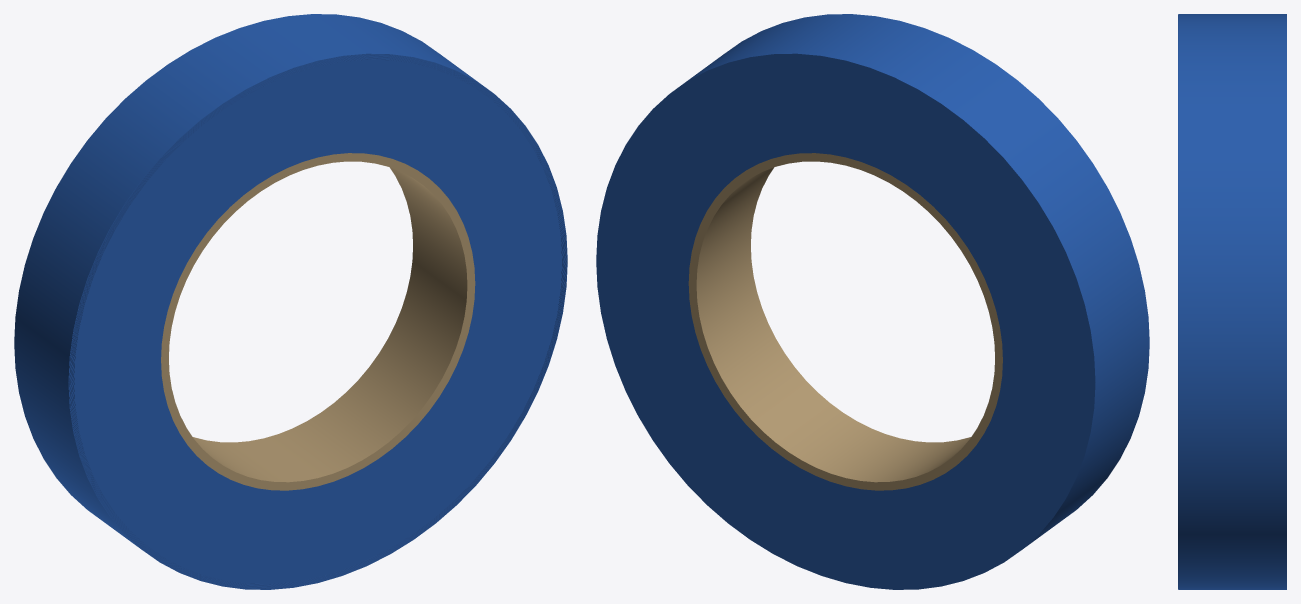
Rendered from supply_masking_tape.glb.
3 renders of one model, left to right at view 1: azimuth 30°, elevation 25°; view 2: azimuth 150°, elevation 25°; view 3: azimuth 270°, elevation 25°, orthographic.
Visible parts, largest first — view 1: wound_blue_tape, paper_core, winding_edge_3, winding_edge_5, winding_edge_6, winding_edge_8, winding_edge_7, winding_edge_1, winding_edge_2, winding_edge_10, winding_edge_4, winding_edge_9; view 2: wound_blue_tape, paper_core; view 3: wound_blue_tape, winding_edge_1.
Boxes of the visible parts, x1,y1,x2,y2 form: wound_blue_tape: (14, 14, 567, 589); paper_core: (161, 153, 475, 490); winding_edge_3: (70, 55, 566, 588); winding_edge_5: (71, 56, 565, 586); winding_edge_6: (71, 57, 564, 586); winding_edge_8: (73, 58, 563, 585); winding_edge_7: (72, 58, 563, 585); winding_edge_1: (69, 54, 567, 589); winding_edge_2: (69, 55, 566, 588); winding_edge_10: (74, 59, 562, 584); winding_edge_4: (70, 56, 565, 587); winding_edge_9: (73, 59, 562, 584); wound_blue_tape: (596, 14, 1149, 589); paper_core: (688, 153, 1002, 490); wound_blue_tape: (1178, 14, 1286, 589); winding_edge_1: (1178, 15, 1178, 588).
Size of the model in its own units: 0.1274 by 0.1274 by 0.0241.
